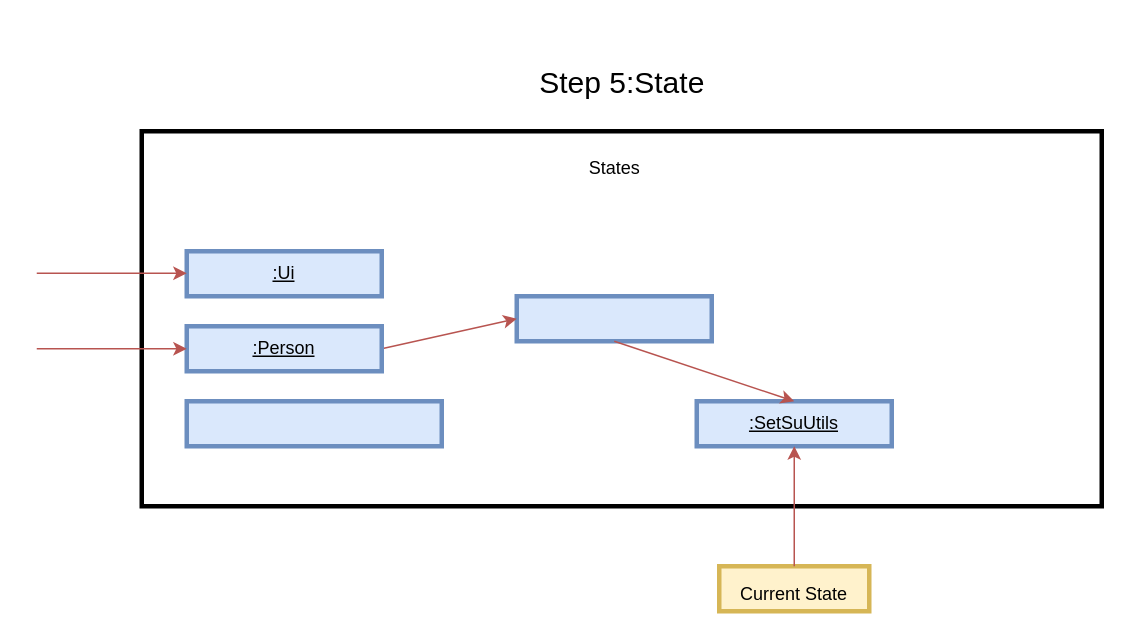
The diagram is 1130 pixels wide and 639 high, and some of its shapes have lost their labels. The centre of each missing label's shape, as x and y in pixels:
:SetSuBySemesterCommand: the point at 313,423
suList:PartialModule: the point at 613,318
